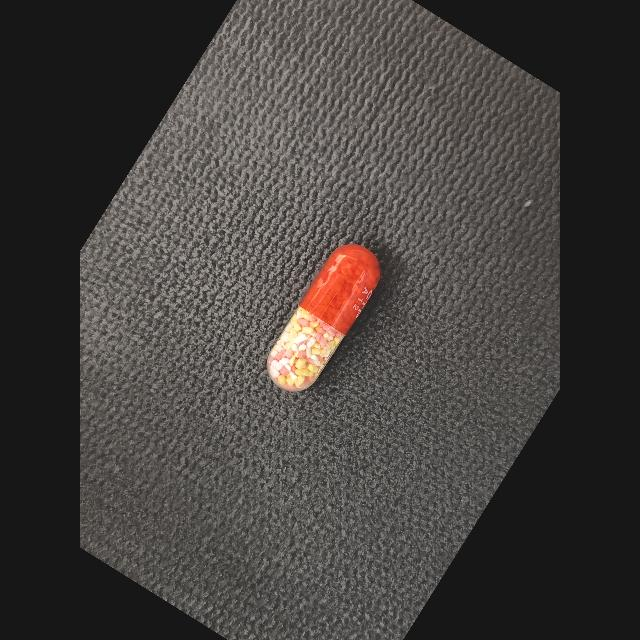Intact Capsule: (267, 244, 380, 391)
